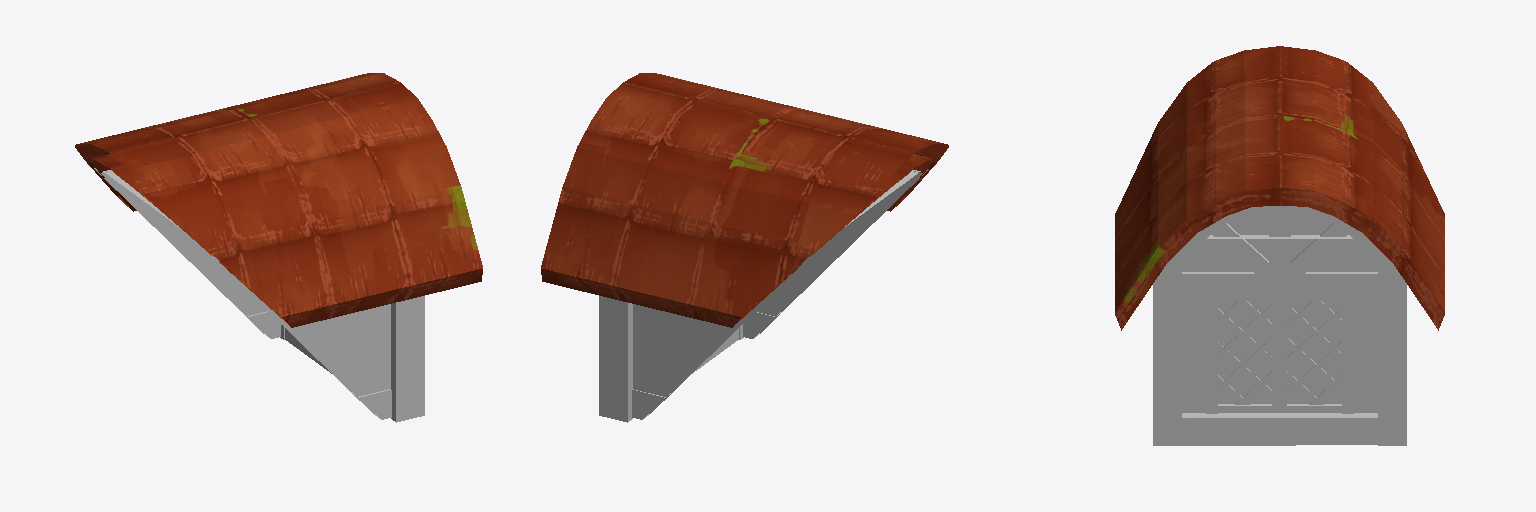
3 views of the same model, side by side, from view 1: azimuth 30°, elevation 25°; view 2: azimuth 150°, elevation 25°; view 3: azimuth 270°, elevation 25° (orthographic).
Parts seen in each view (by area): view 1: Roof_Dormer_FlatTile; view 2: Roof_Dormer_FlatTile; view 3: Roof_Dormer_FlatTile.
Boxes of the visible parts, <box> form: Roof_Dormer_FlatTile: <box>75,73,482,422</box>; Roof_Dormer_FlatTile: <box>541,73,948,422</box>; Roof_Dormer_FlatTile: <box>1115,46,1444,445</box>.
Size of the model in its own units: 2.1 by 1.9 by 2.05.
Materials: 4 (1 with a texture image).